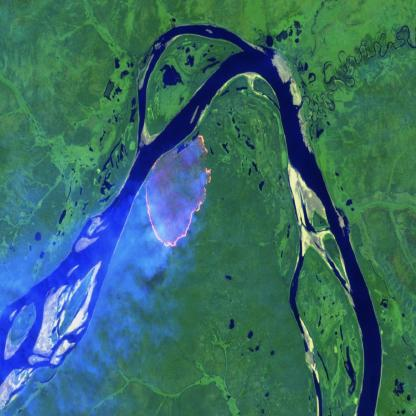fire: (142, 131, 214, 258)
